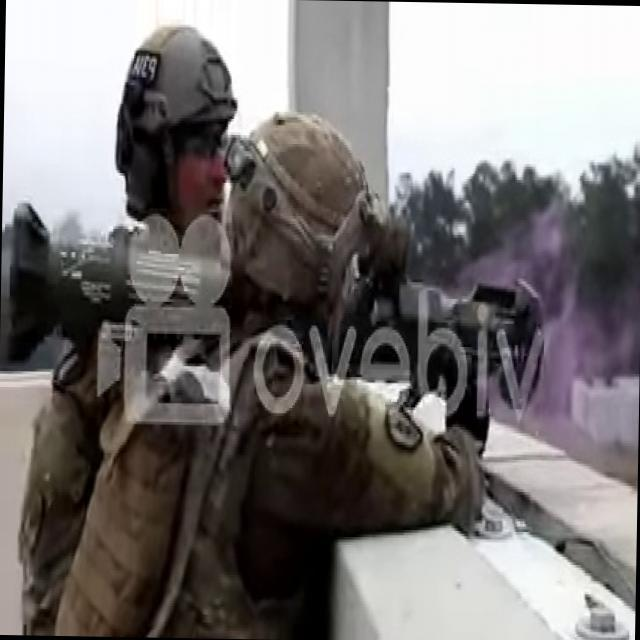rocket: (4, 202, 544, 406)
